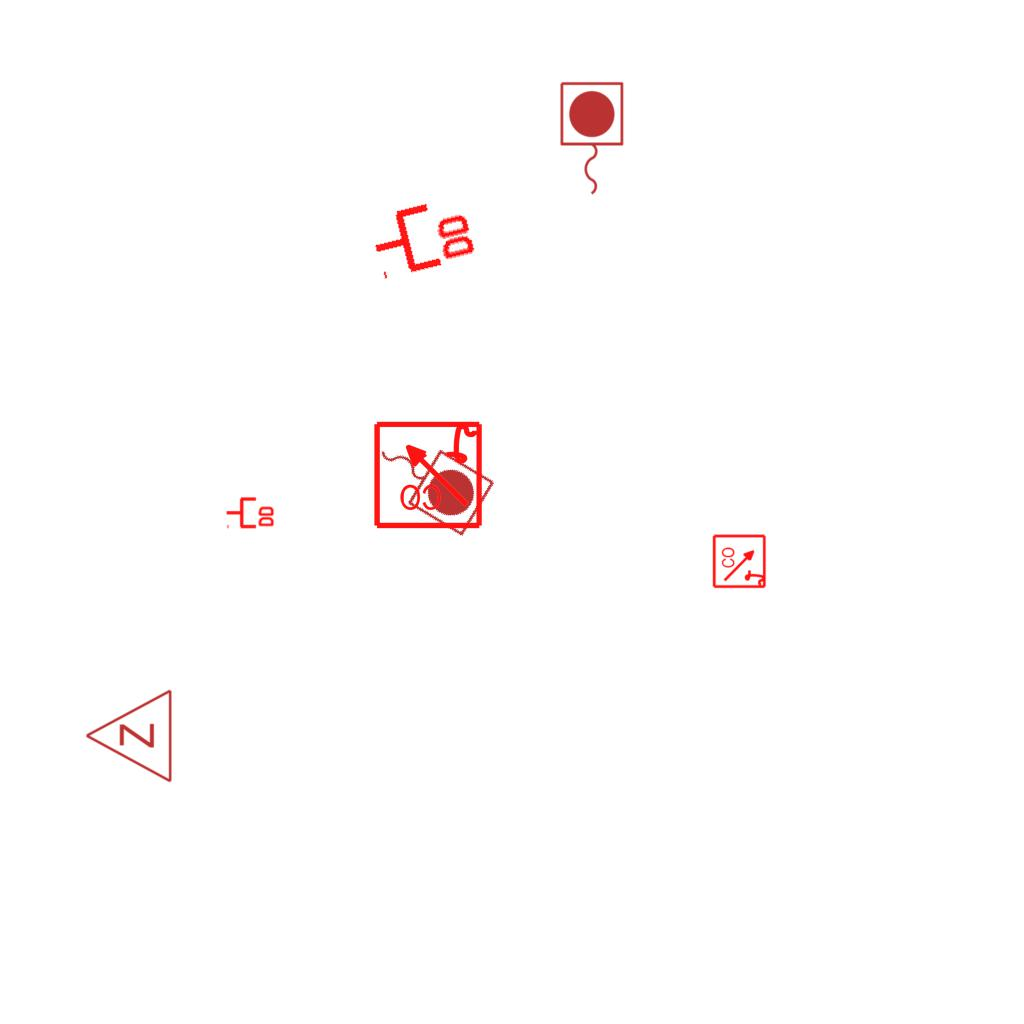Datenanschluss_zweifach: (364, 189, 481, 282), (225, 495, 276, 529)
ROA_Rauchmelder_optisch_mit_Signalgeber_(Sockelsirene): (371, 417, 484, 530), (712, 533, 768, 589)
Zimmersignalleuchte: (79, 688, 179, 786)
Zugtaster: (359, 416, 501, 542), (555, 78, 627, 200)
